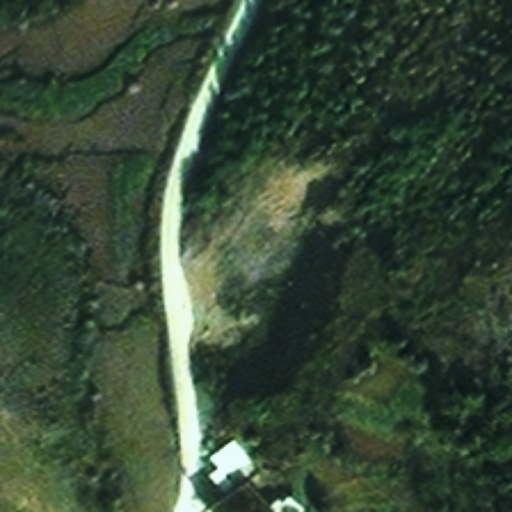landslide: (252, 161, 333, 230)
